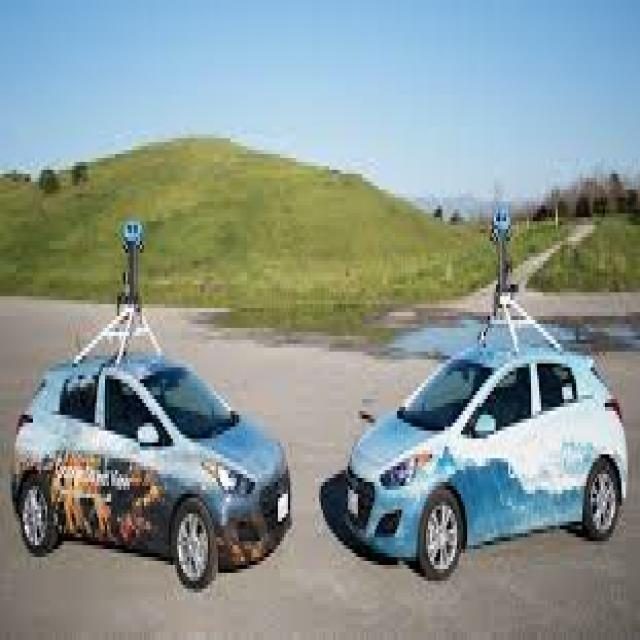car: (327, 336, 632, 581), (12, 332, 296, 581)
